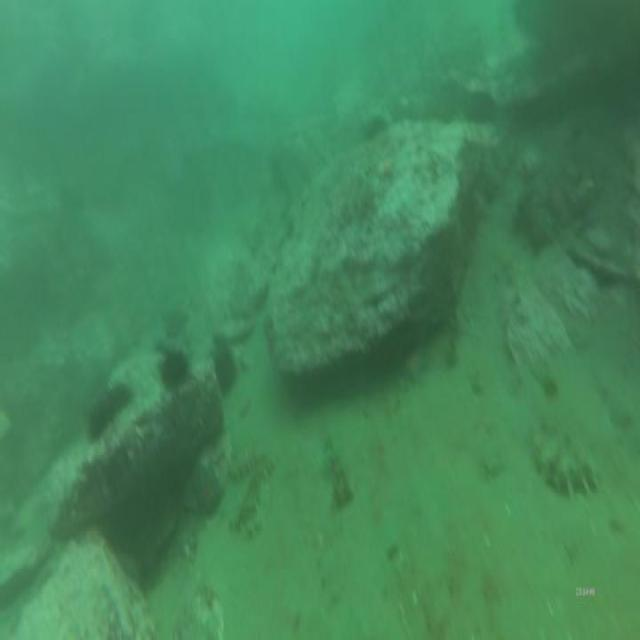echinus: (157, 343, 191, 397), (212, 339, 240, 396), (84, 392, 112, 444), (104, 380, 132, 412)
holothurian: (527, 417, 604, 496), (224, 447, 273, 479)
starfish: (189, 454, 224, 518)
